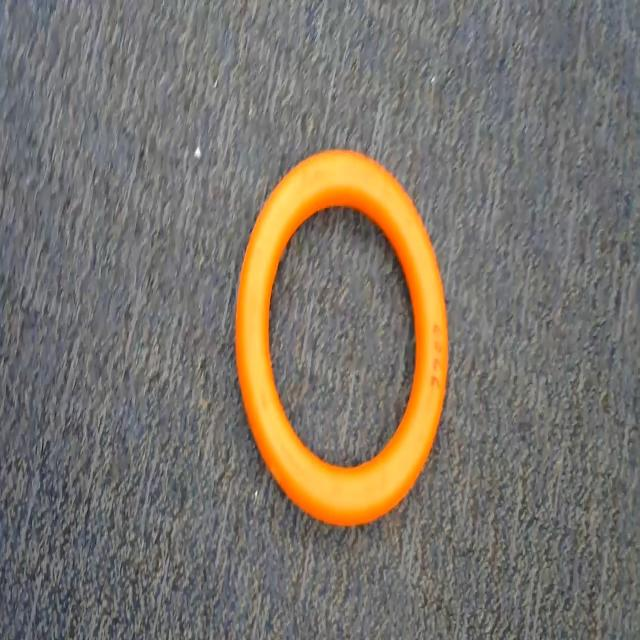note: (227, 143, 463, 544)
